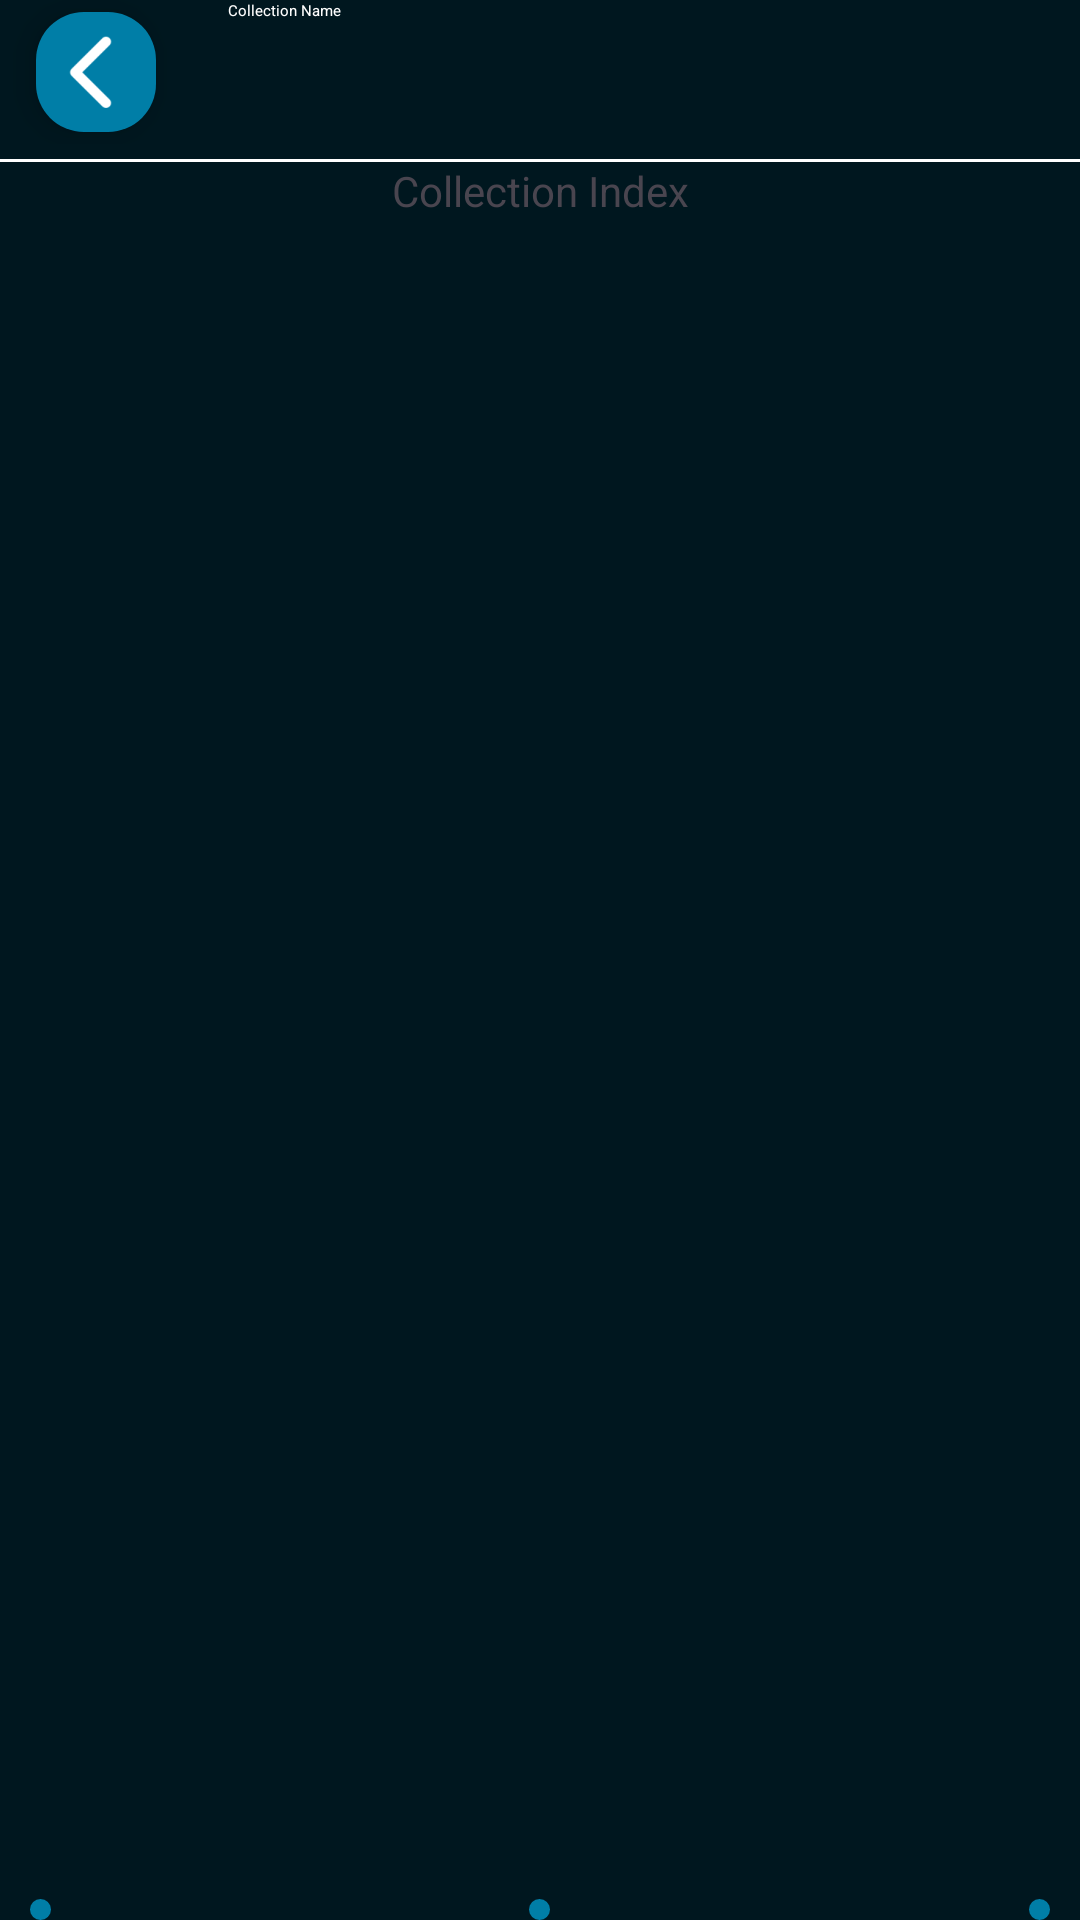

Icons on this 1080px x 1920px Android screen, each with its box as {"x1": x1, "y1": y1, "x2": x2, "y2": y2}:
back: {"x1": 36, "y1": 12, "x2": 156, "y2": 132}
